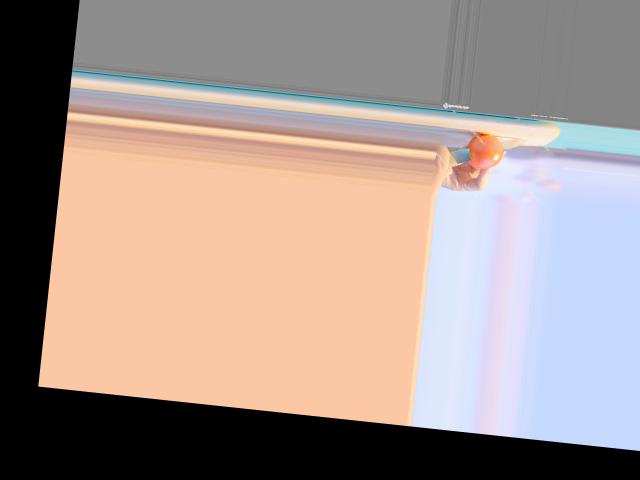tomato: (465, 131, 505, 170)
